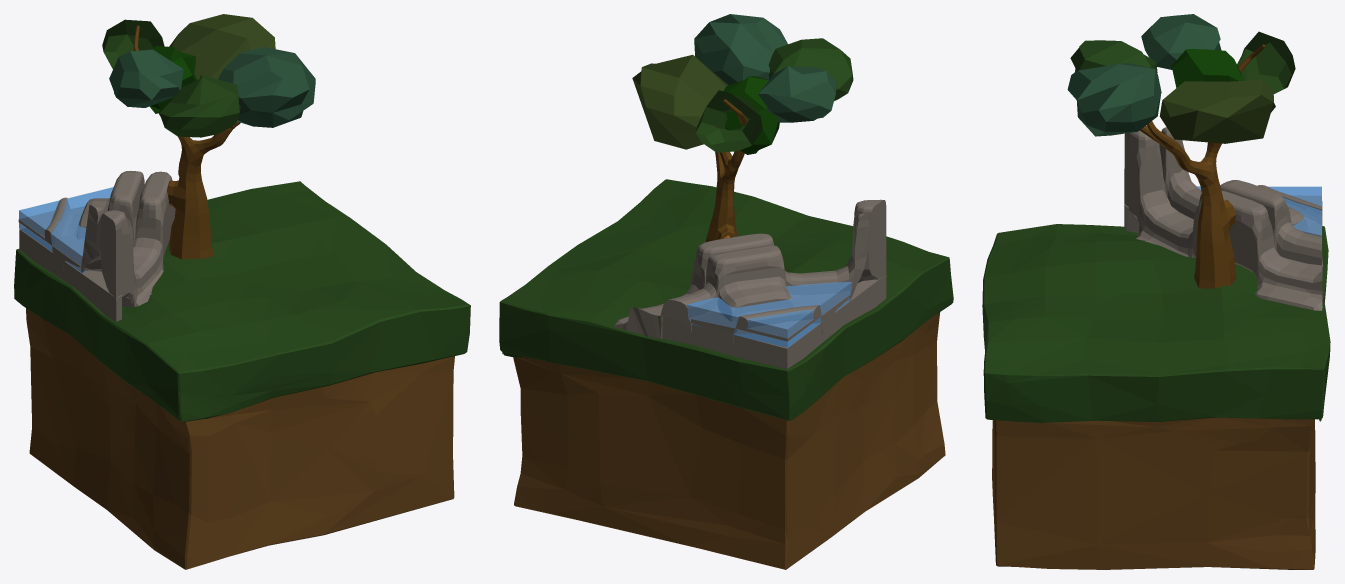
The picture shows the model from 3 angles, left to right: view 1: azimuth 30°, elevation 25°; view 2: azimuth 150°, elevation 25°; view 3: azimuth 270°, elevation 25°; orthographic projection.
Parts seen in each view (by area): view 1: R3, tree trunk.001; view 2: R3, tree trunk.001; view 3: R3, tree trunk.001.
Part boxes in pixels (x1,y1,x2,y2): R3: (14, 170, 470, 569); tree trunk.001: (102, 14, 315, 259); R3: (499, 179, 953, 569); tree trunk.001: (632, 14, 853, 241); R3: (982, 127, 1330, 569); tree trunk.001: (1067, 14, 1295, 288).
Size of the model in its own units: 1.07 by 1.54 by 1.09.
